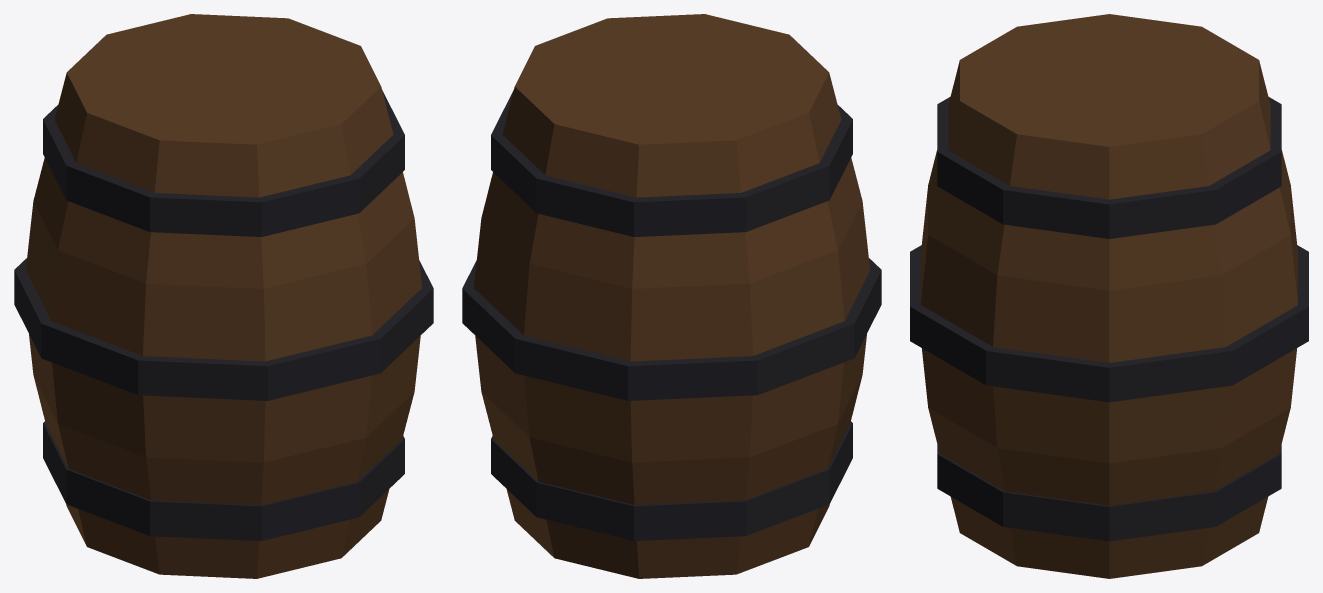
Rendered from barril.fbx.
3 views of the same model, side by side, from view 1: azimuth 30°, elevation 25°; view 2: azimuth 150°, elevation 25°; view 3: azimuth 270°, elevation 25° (orthographic).
Parts seen in each view (by area): view 1: barril; view 2: barril; view 3: barril.
Boxes of the visible parts, x1,y1,x2,y2 form: barril: (14, 14, 433, 578); barril: (462, 14, 881, 578); barril: (910, 14, 1308, 578).
Bounding box in the file's own units: 0.88 × 1 × 0.8369.
